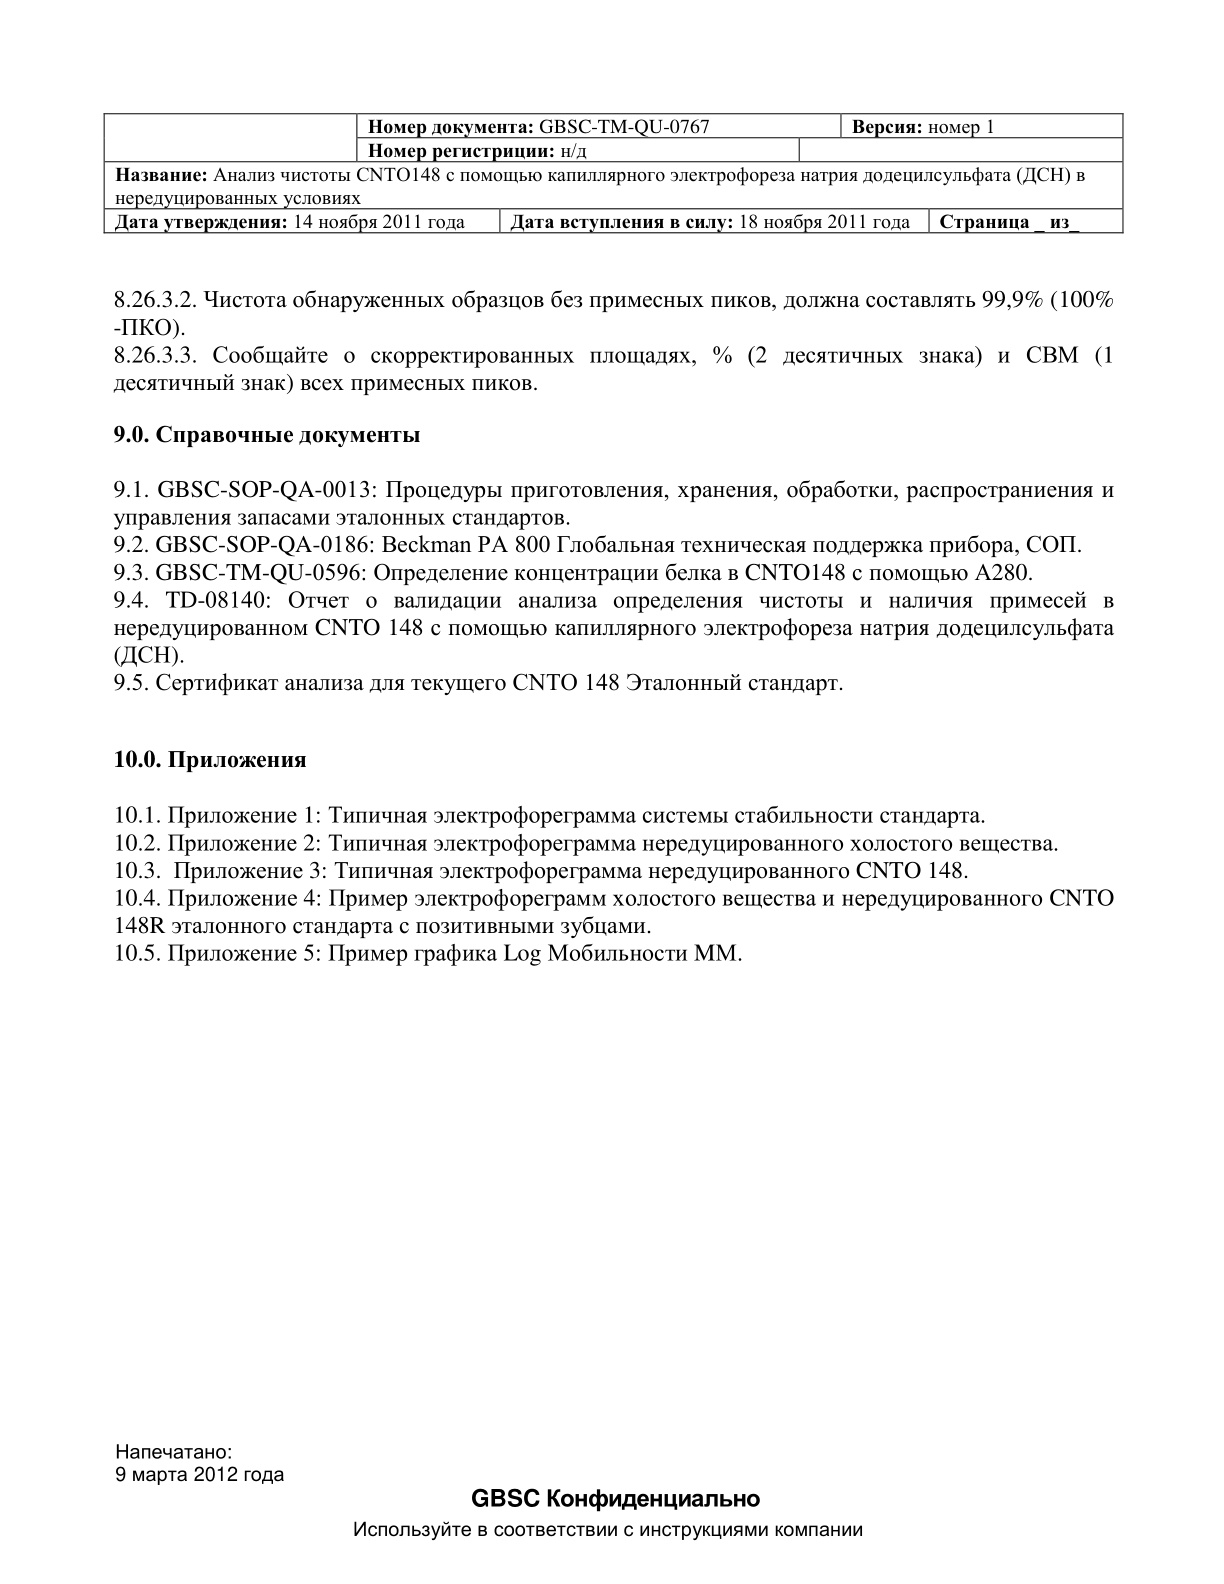merged_cells: (102, 112, 1124, 235)
